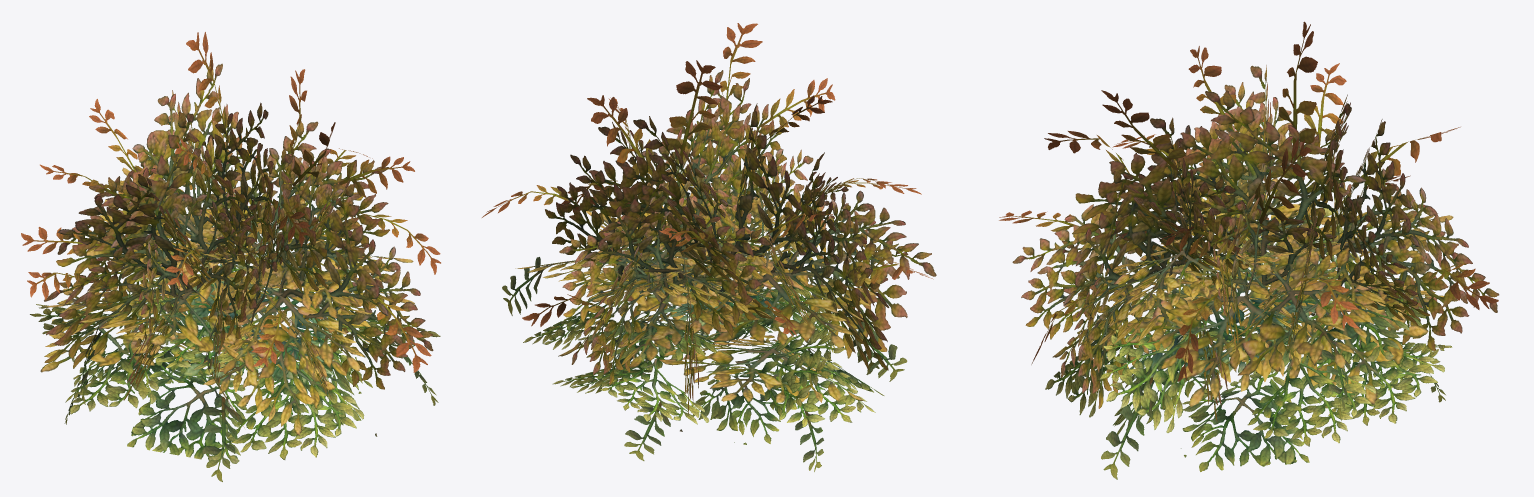
File: Yland1_Zb_10_Yland1.FBX
The picture shows the model from 3 angles, left to right: view 1: azimuth 30°, elevation 25°; view 2: azimuth 150°, elevation 25°; view 3: azimuth 270°, elevation 25°; orthographic projection. The views are drawn at different scales.
Visible parts, largest first — view 1: Yland1_Zb_10_Yland1; view 2: Yland1_Zb_10_Yland1; view 3: Yland1_Zb_10_Yland1.
Boxes of the visible parts, x1,y1,x2,y2 form: Yland1_Zb_10_Yland1: (21, 32, 440, 481); Yland1_Zb_10_Yland1: (482, 23, 936, 471); Yland1_Zb_10_Yland1: (999, 21, 1499, 479).
Bounding box in the file's own units: 3.74 × 3.46 × 3.94.
